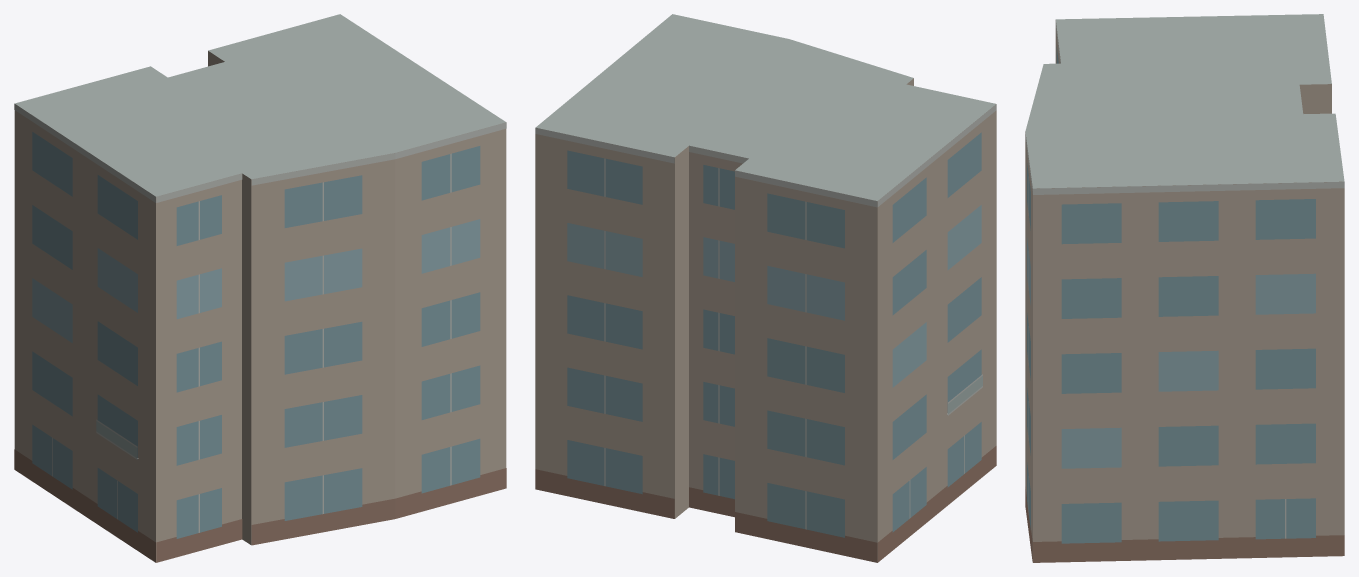
The model's file is survey-upis-32617515.glb.
3 renders of one model, left to right at view 1: azimuth 30°, elevation 25°; view 2: azimuth 150°, elevation 25°; view 3: azimuth 270°, elevation 25°, orthographic. The views are drawn at different scales.
Visible parts, largest first — view 1: survey-upis-32617515.tmp; view 2: survey-upis-32617515.tmp; view 3: survey-upis-32617515.tmp.
Boxes of the visible parts, x1=… form: survey-upis-32617515.tmp: x1=14, y1=14, x2=506, y2=562; survey-upis-32617515.tmp: x1=535, y1=14, x2=996, y2=562; survey-upis-32617515.tmp: x1=1025, y1=14, x2=1344, y2=562.
Bounding box in the file's own units: 14.01 × 14 × 10.83.
